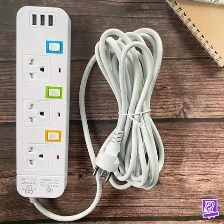three_eye_plug: (11, 1, 75, 209)
